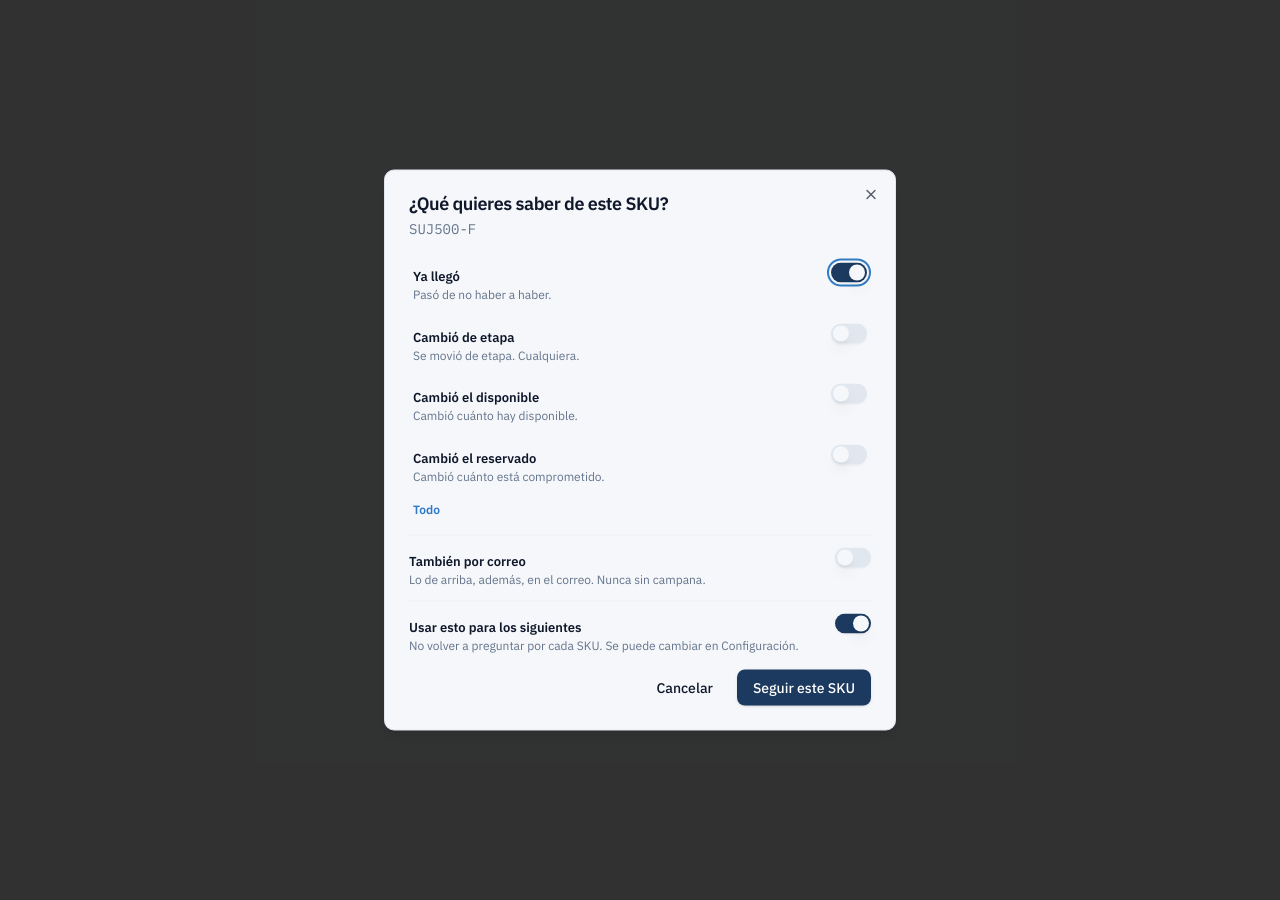
it: [INV-B9] VentanaAvisos › «Todo» enciende las cuatro, y vuelve a lo esencial
What coordinates should you click on to do the following:
click the button "Todo"
I would click on:
 (426, 510)
Its box is [409, 496, 444, 522].
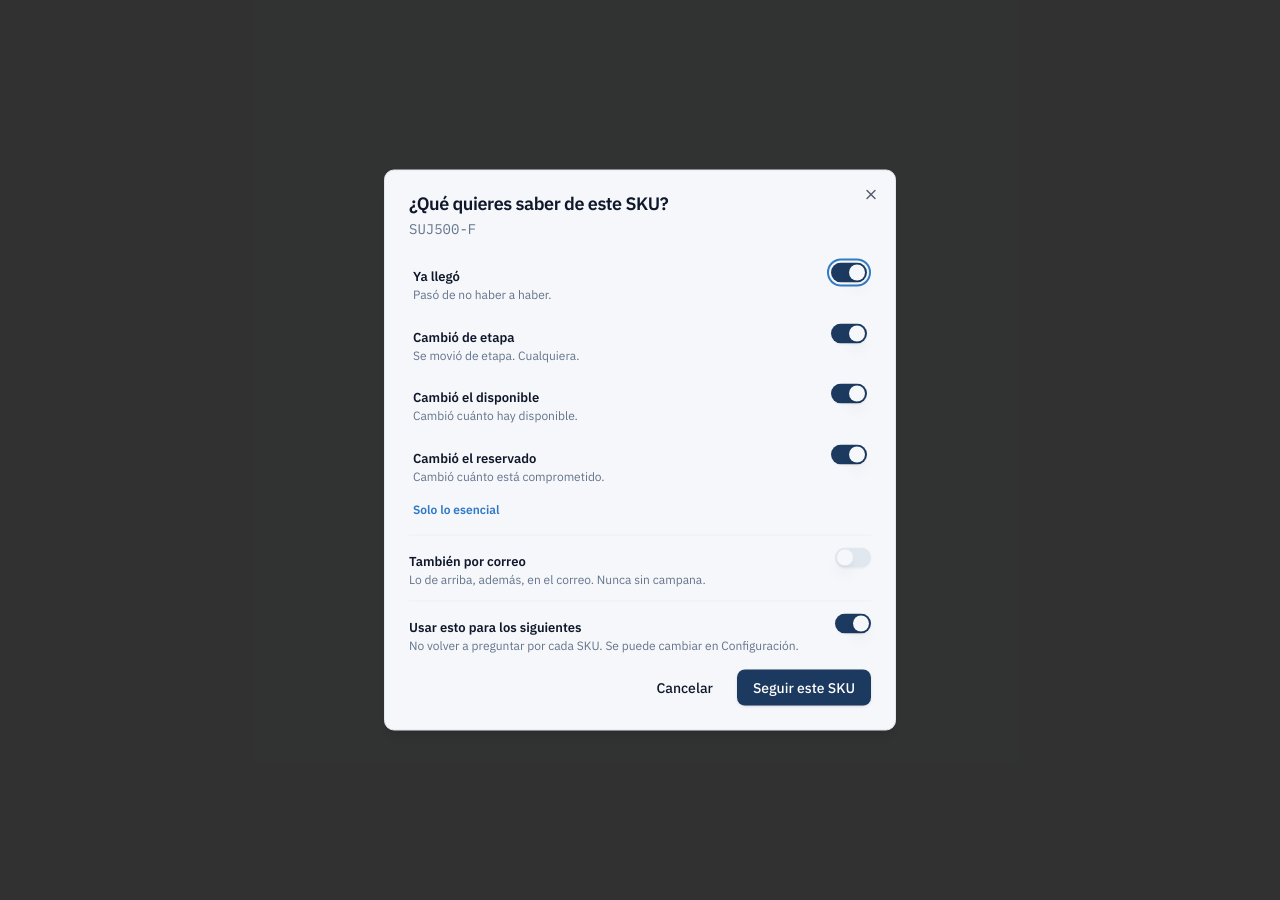
Expected: the switch named "Cambió de etapa" in the row of "Cambió de etapa" is checked, [831, 323, 867, 343]
Expected: the switch named "Cambió el disponible" in the row of "Cambió el disponible" is checked, [831, 384, 867, 404]
Expected: the switch named "Cambió el reservado" in the row of "Cambió el reservado" is checked, [831, 444, 867, 464]
What coordinates should you click on to do the following:
click the button "Solo lo esencial"
I would click on:
 (456, 510)
Its box is [409, 496, 504, 522].
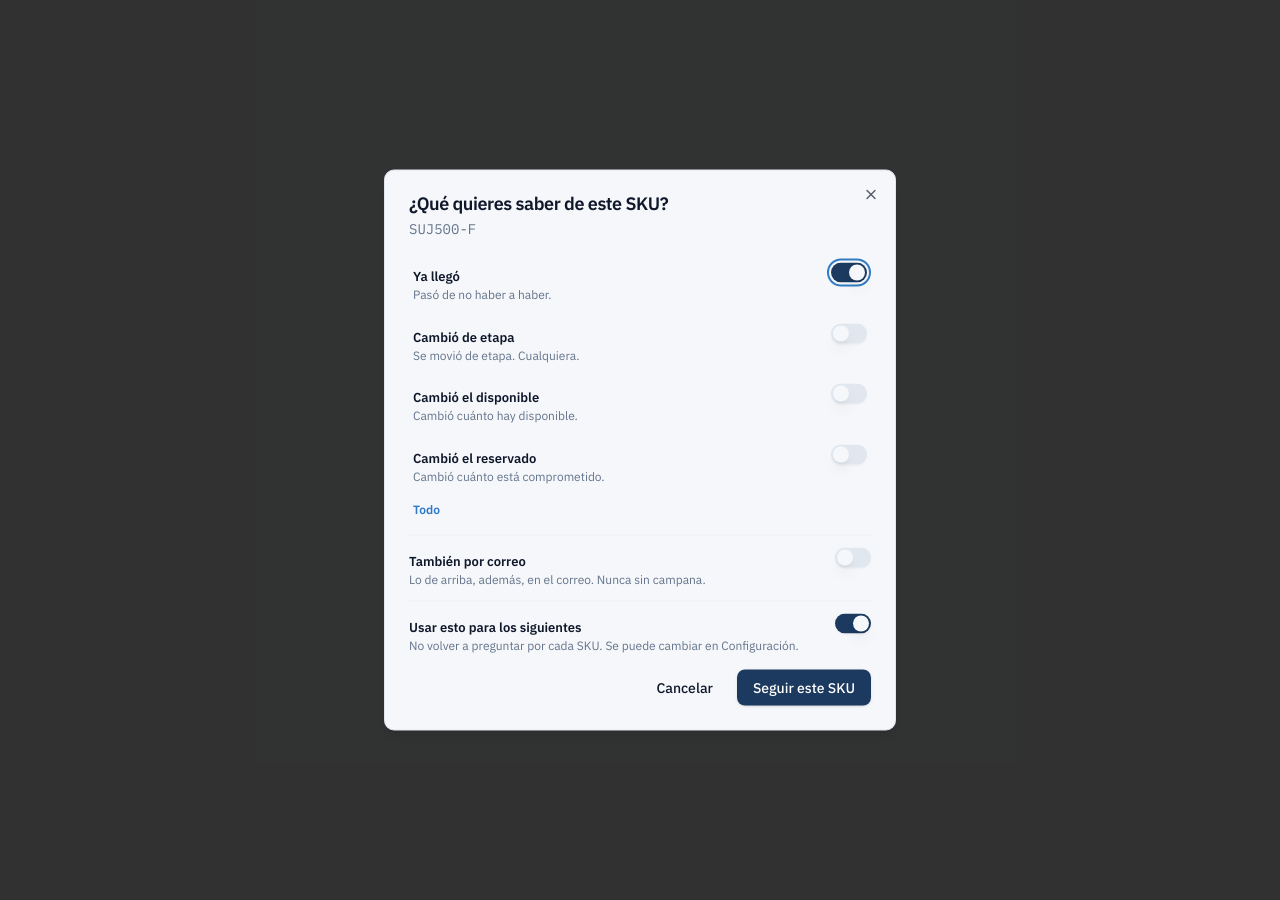
Expected: the switch named "Ya llegó" in the row of "Ya llegó" is checked, [831, 262, 867, 282]
Expected: the switch named "Cambió el reservado" in the row of "Cambió el reservado" is not checked, [831, 444, 867, 464]
